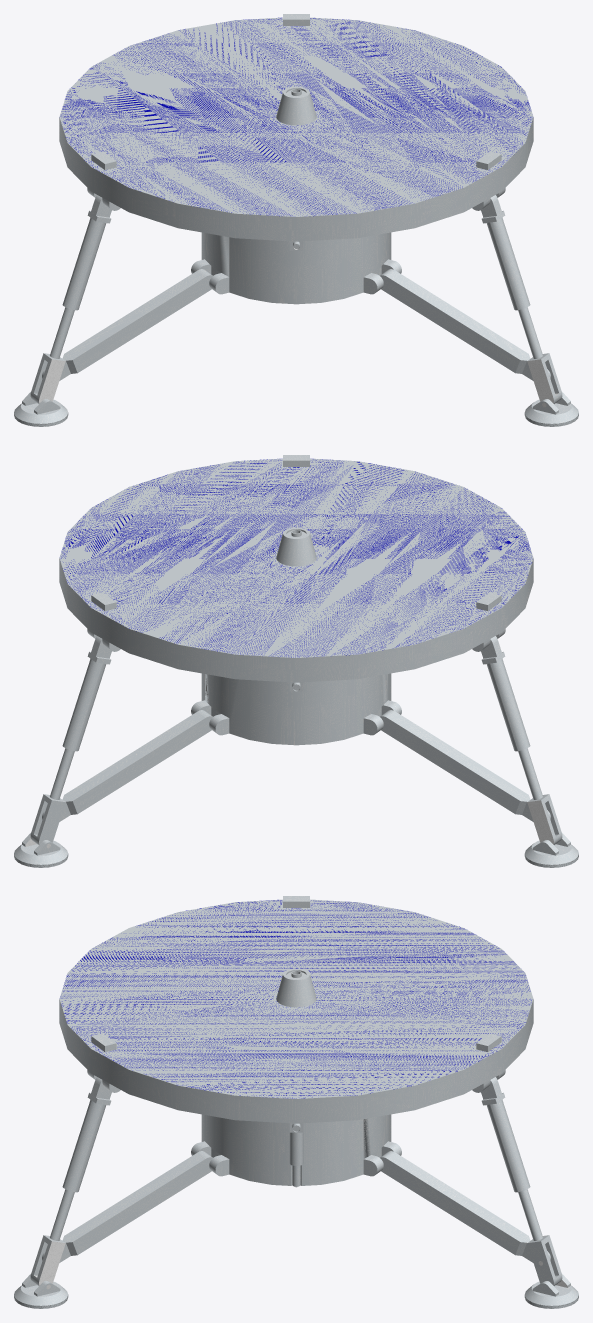
The picture shows the model from 3 angles, top to bottom: view 1: azimuth 30°, elevation 25°; view 2: azimuth 150°, elevation 25°; view 3: azimuth 270°, elevation 25°; orthographic projection.
Visible parts, largest first — view 1: SketchUp.081, SketchUp.079, SketchUp.009, SketchUp.006, SketchUp.029, SketchUp.066, SketchUp.036, SketchUp.080, SketchUp.067, SketchUp.040; view 2: SketchUp.081, SketchUp.079, SketchUp.009, SketchUp.006, SketchUp.001, SketchUp.037, SketchUp.036, SketchUp.080, SketchUp.070, SketchUp.040; view 3: SketchUp.081, SketchUp.079, SketchUp.009, SketchUp.001, SketchUp.029, SketchUp.066, SketchUp.037, SketchUp.080, SketchUp.070, SketchUp.067.
Part boxes in pixels (bbox=[...]): SketchUp.081: bbox=[59, 17, 533, 216]; SketchUp.079: bbox=[59, 117, 533, 241]; SketchUp.009: bbox=[191, 232, 401, 304]; SketchUp.006: bbox=[14, 269, 212, 423]; SketchUp.029: bbox=[380, 269, 578, 423]; SketchUp.066: bbox=[481, 195, 530, 310]; SketchUp.036: bbox=[62, 195, 111, 310]; SketchUp.080: bbox=[276, 86, 316, 125]; SketchUp.067: bbox=[518, 307, 542, 358]; SketchUp.040: bbox=[50, 307, 74, 358]; SketchUp.081: bbox=[59, 458, 533, 657]; SketchUp.079: bbox=[59, 558, 533, 682]; SketchUp.009: bbox=[191, 673, 401, 745]; SketchUp.006: bbox=[380, 710, 578, 864]; SketchUp.001: bbox=[14, 710, 212, 864]; SketchUp.037: bbox=[62, 636, 111, 751]; SketchUp.036: bbox=[481, 636, 530, 751]; SketchUp.080: bbox=[276, 527, 316, 566]; SketchUp.070: bbox=[50, 748, 74, 799]; SketchUp.040: bbox=[518, 748, 542, 799]; SketchUp.081: bbox=[59, 899, 533, 1098]; SketchUp.079: bbox=[59, 999, 533, 1123]; SketchUp.009: bbox=[191, 1114, 401, 1185]; SketchUp.001: bbox=[380, 1151, 578, 1305]; SketchUp.029: bbox=[14, 1151, 212, 1305]; SketchUp.066: bbox=[62, 1077, 111, 1192]; SketchUp.037: bbox=[481, 1077, 530, 1192]; SketchUp.080: bbox=[276, 968, 316, 1007]; SketchUp.070: bbox=[518, 1189, 542, 1240]; SketchUp.067: bbox=[50, 1189, 74, 1240].
Size of the model in its own units: 7.91 by 8 by 4.1.
